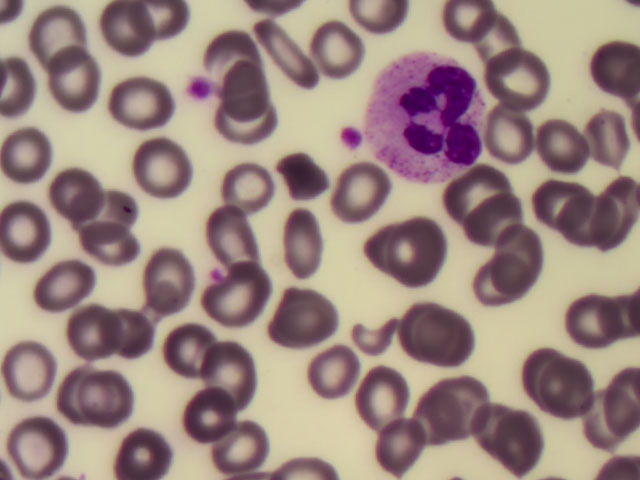Platelets: (183, 74, 208, 99), (338, 124, 360, 144), (202, 267, 225, 282)
RBC: (374, 216, 447, 285), (30, 5, 97, 66), (39, 49, 106, 110), (106, 73, 173, 134), (129, 134, 196, 195), (40, 151, 107, 212), (61, 170, 128, 231), (73, 209, 140, 270), (2, 202, 69, 263), (3, 121, 70, 182), (35, 248, 102, 309), (57, 302, 124, 363), (106, 306, 173, 367), (124, 247, 191, 308), (142, 323, 209, 384), (190, 342, 257, 403), (175, 389, 242, 450), (207, 410, 274, 471), (112, 419, 179, 480), (87, 368, 154, 429), (53, 364, 120, 425), (1, 417, 68, 478), (361, 419, 428, 480), (350, 367, 417, 428), (301, 339, 368, 400), (272, 288, 339, 349), (273, 215, 340, 276), (328, 165, 395, 226), (211, 94, 278, 155), (220, 60, 287, 121), (202, 26, 269, 87), (255, 20, 322, 81), (303, 16, 370, 77), (1, 339, 67, 400), (466, 14, 522, 60), (493, 55, 549, 101), (485, 109, 541, 155), (533, 126, 589, 172), (578, 116, 634, 162), (584, 43, 640, 89), (571, 195, 627, 241), (535, 176, 591, 222), (473, 191, 529, 237), (454, 164, 510, 210), (387, 223, 443, 269), (462, 259, 518, 305), (491, 229, 547, 275), (566, 295, 622, 341), (583, 399, 639, 445), (539, 360, 595, 406), (510, 340, 566, 386), (496, 422, 552, 468), (460, 398, 516, 444), (426, 375, 482, 421), (424, 309, 480, 355), (386, 298, 442, 344), (439, 1, 495, 46)
WBC: (363, 52, 490, 178)
